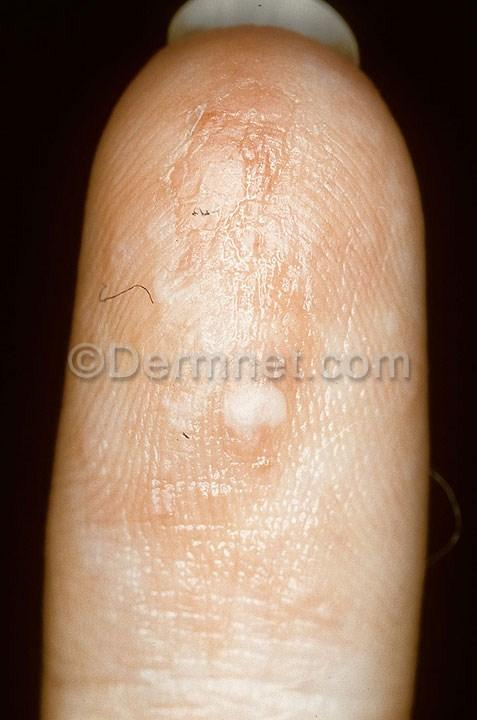Eczema: (159, 100, 302, 283), (201, 385, 314, 461)
